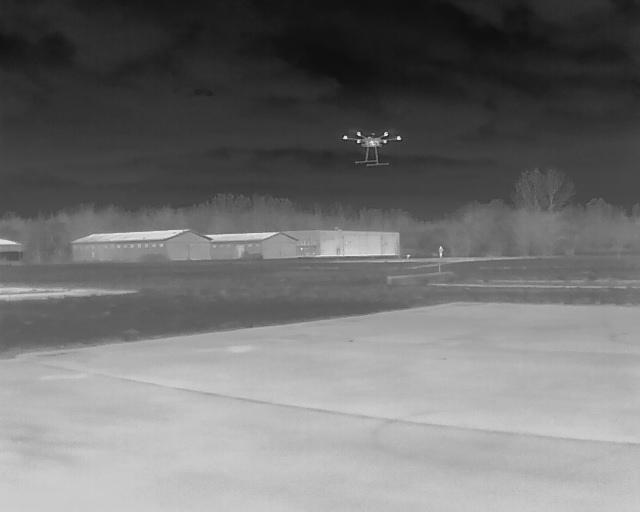drone: (340, 126, 403, 172)
